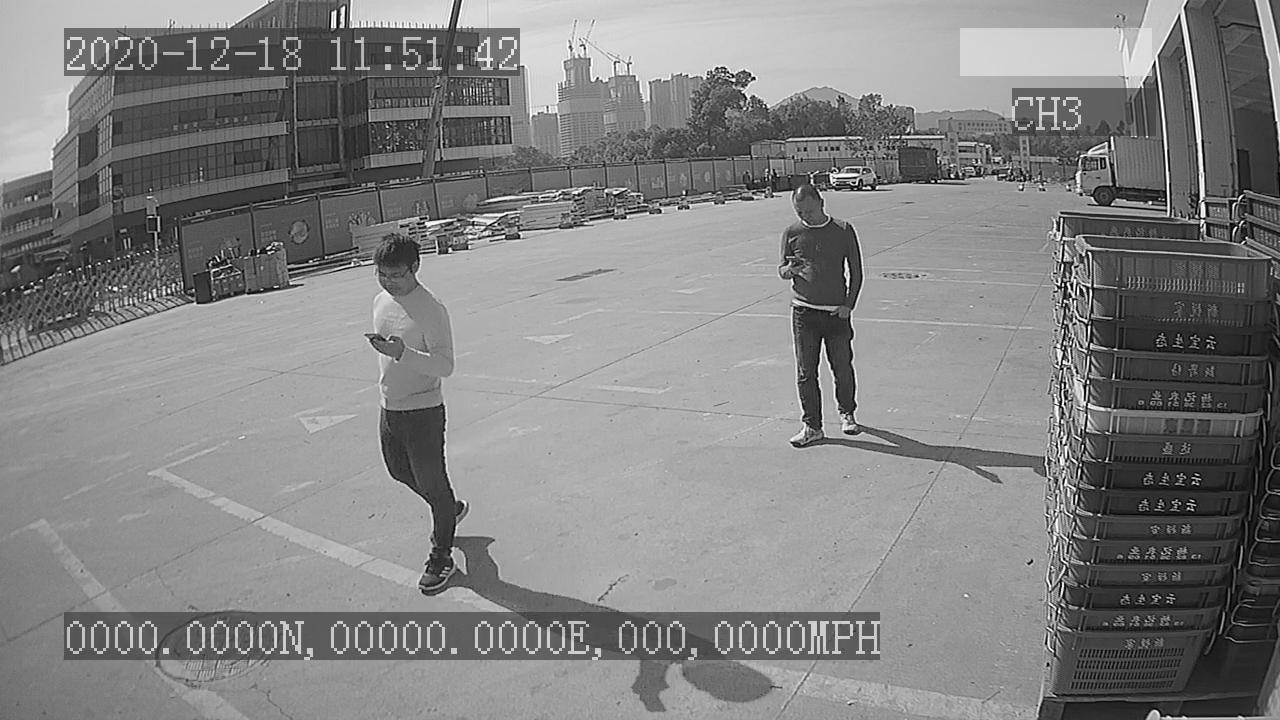person: (356, 224, 476, 601), (772, 177, 870, 456)
